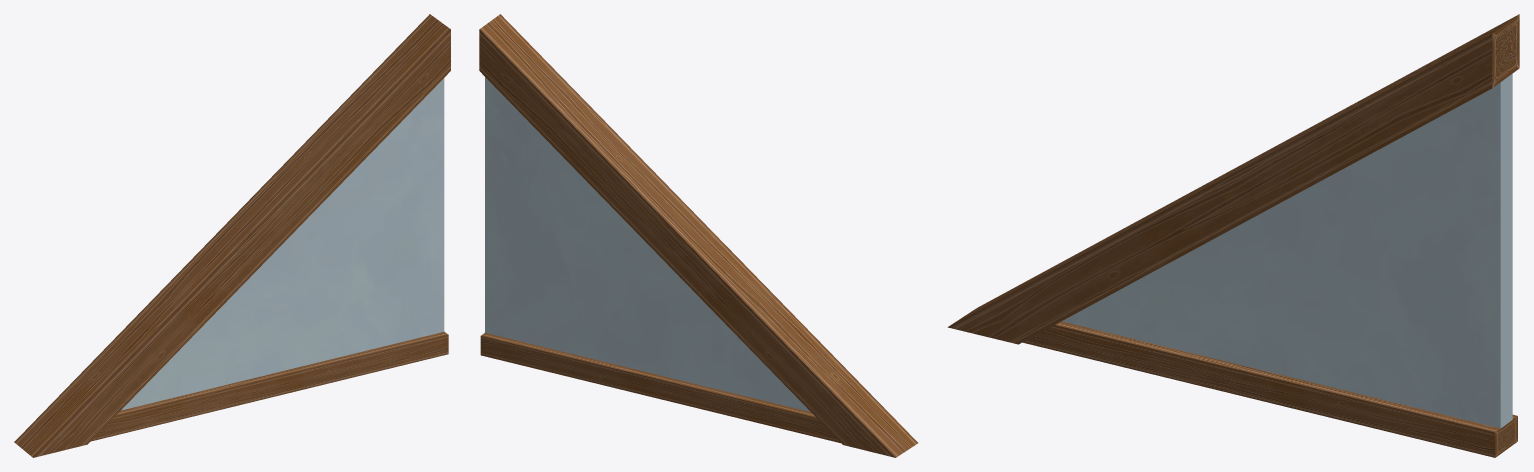
Rendered from SM_Roof_Wall_wblue.glb.
3 views of the same model, side by side, from view 1: azimuth 30°, elevation 25°; view 2: azimuth 150°, elevation 25°; view 3: azimuth 330°, elevation 25° (orthographic). The views are drawn at different scales.
Visible parts, largest first — view 1: SM_Roof_Wall; view 2: SM_Roof_Wall; view 3: SM_Roof_Wall.
Part boxes in pixels (x1,y1,x2,y2): SM_Roof_Wall: [14, 14, 450, 457]; SM_Roof_Wall: [479, 14, 917, 457]; SM_Roof_Wall: [947, 14, 1519, 457].
Size of the model in its own units: 4.02 by 3.01 by 0.349.
2 materials, 2 textured.
